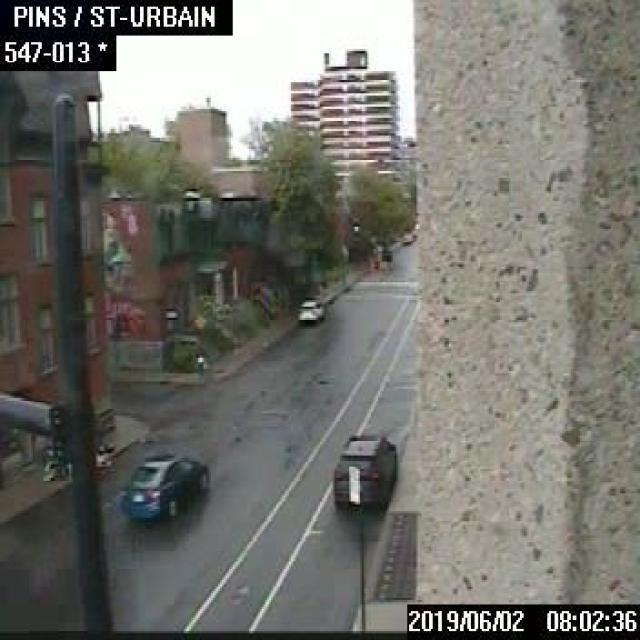vehicle: (120, 451, 208, 522), (332, 433, 396, 511), (296, 298, 323, 320)
